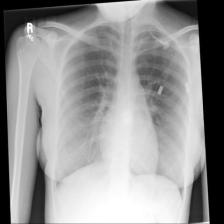normal: (52, 20, 190, 203)
